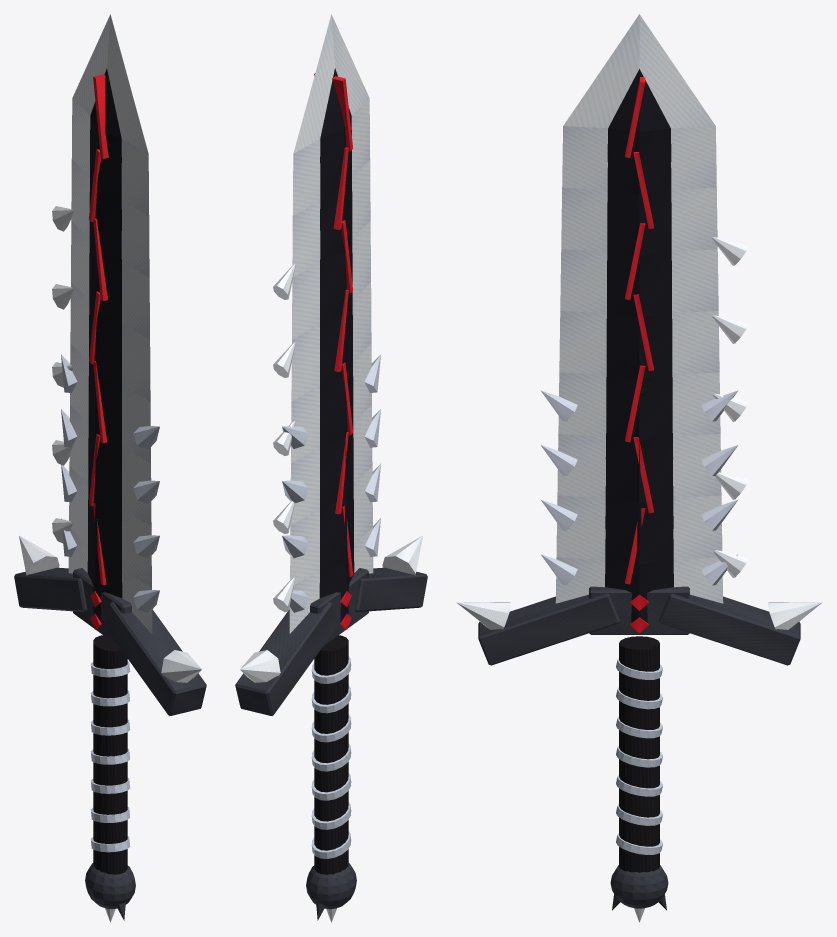
The model's file is AbyssWings.obj.
3 views of the same model, side by side, from view 1: azimuth 30°, elevation 25°; view 2: azimuth 150°, elevation 25°; view 3: azimuth 270°, elevation 25° (orthographic).
Visible parts, largest first — view 1: AbyssWings; view 2: AbyssWings; view 3: AbyssWings.
Boxes of the visible parts, x1,y1,x2,y2 form: AbyssWings: (14,14,206,922); AbyssWings: (235,14,427,922); AbyssWings: (456,14,822,922).
Size of the model in its own units: 0.4401 by 9.32 by 3.41.
1 material, 1 textured.
